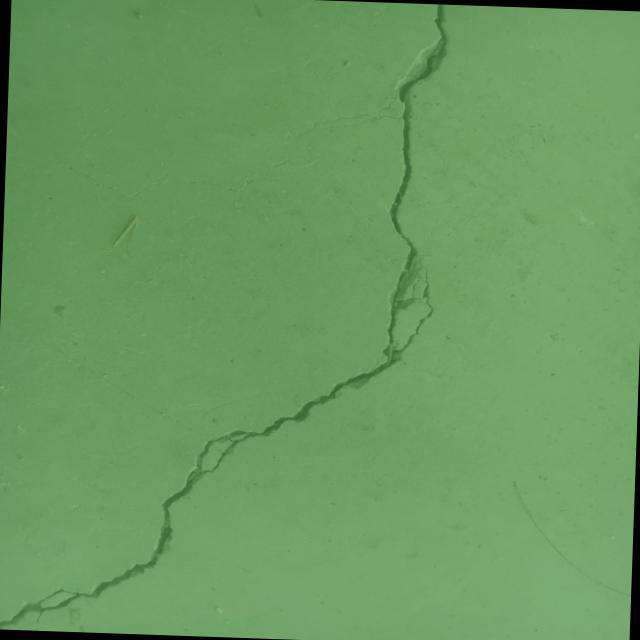crack: (0, 0, 483, 640), (4, 126, 290, 204)
